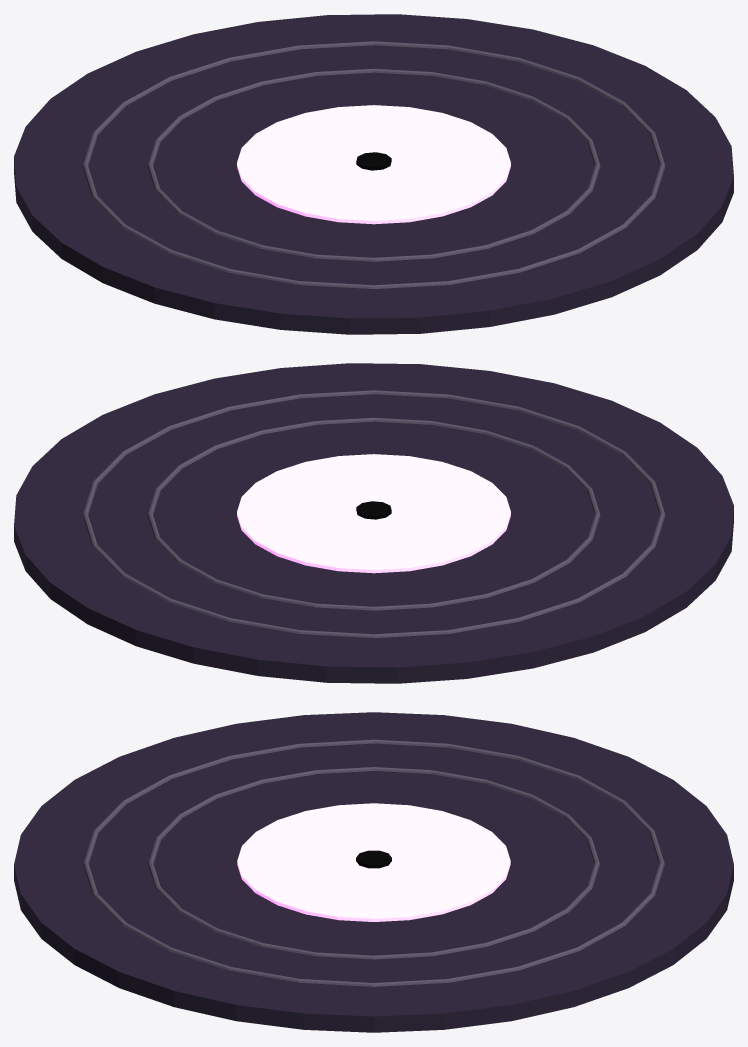
Rendered from vinyl.glb.
The picture shows the model from 3 angles, top to bottom: view 1: azimuth 30°, elevation 25°; view 2: azimuth 150°, elevation 25°; view 3: azimuth 270°, elevation 25°; orthographic projection.
Parts seen in each view (by area): view 1: vinyl; view 2: vinyl; view 3: vinyl.
Boxes of the visible parts, x1,y1,x2,y2 form: vinyl: [14, 14, 733, 334]; vinyl: [14, 363, 733, 683]; vinyl: [14, 712, 733, 1032].
Size of the model in its own units: 2 by 0.09 by 2.
